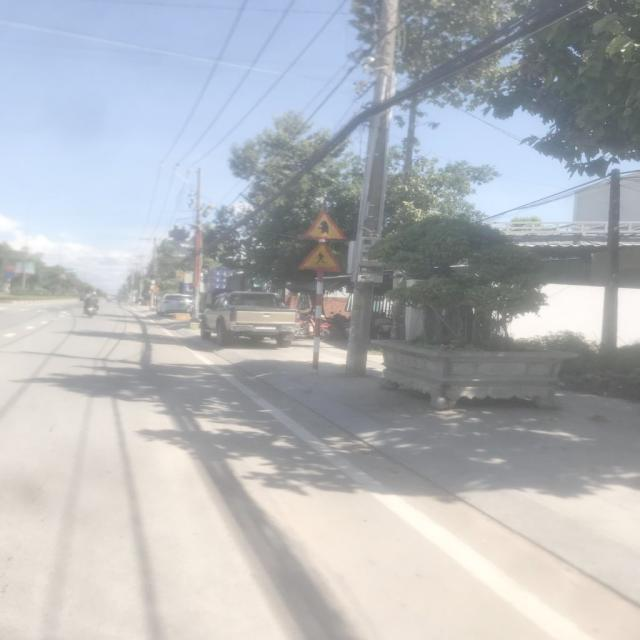chu_y_nguoi_di_bo_cat_ngang: (298, 242, 344, 272)
giao_nhau_voi_duong_khong_uu_tien: (300, 208, 346, 239)
